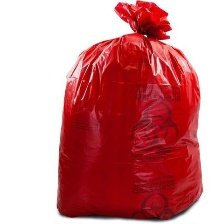plastic_bag: (52, 0, 213, 223)
